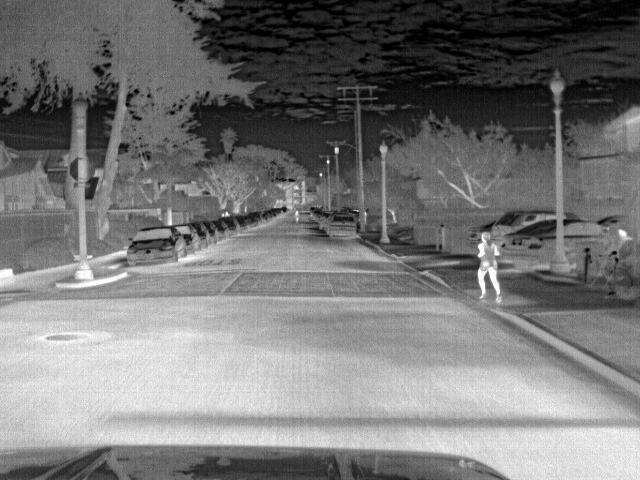car: (562, 218, 638, 271), (500, 221, 555, 270), (121, 225, 183, 268), (495, 211, 556, 241), (176, 223, 205, 257), (325, 213, 360, 238), (190, 222, 210, 245), (202, 221, 220, 242), (212, 219, 229, 239), (225, 218, 240, 236), (236, 216, 248, 232)
person: (473, 230, 506, 302)
